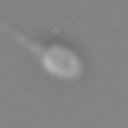normal: (1, 15, 42, 55)
